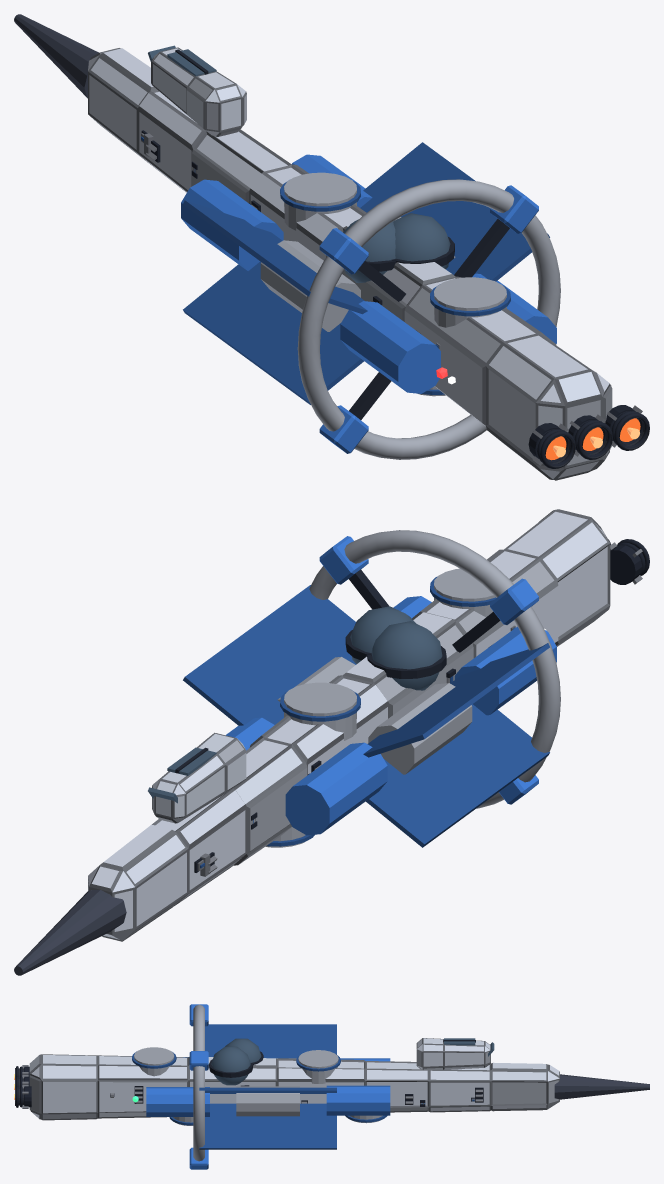
File: pathfinder.glb
The picture shows the model from 3 angles, top to bottom: view 1: azimuth 30°, elevation 25°; view 2: azimuth 150°, elevation 25°; view 3: azimuth 270°, elevation 25°; orthographic projection. The views are drawn at different scales.
Visible parts, largest first — view 1: pathfinder_mesh, ring_mesh; view 2: pathfinder_mesh, ring_mesh; view 3: pathfinder_mesh, ring_mesh.
Boxes of the visible parts, <box> form: pathfinder_mesh: <box>14,14,649,480</box>; ring_mesh: <box>297,179,560,459</box>; pathfinder_mesh: <box>14,509,649,975</box>; ring_mesh: <box>309,530,560,808</box>; pathfinder_mesh: <box>14,1024,649,1149</box>; ring_mesh: <box>189,1004,208,1169</box>.
Bounding box in the file's own units: 4.98 × 4.98 × 19.19.
